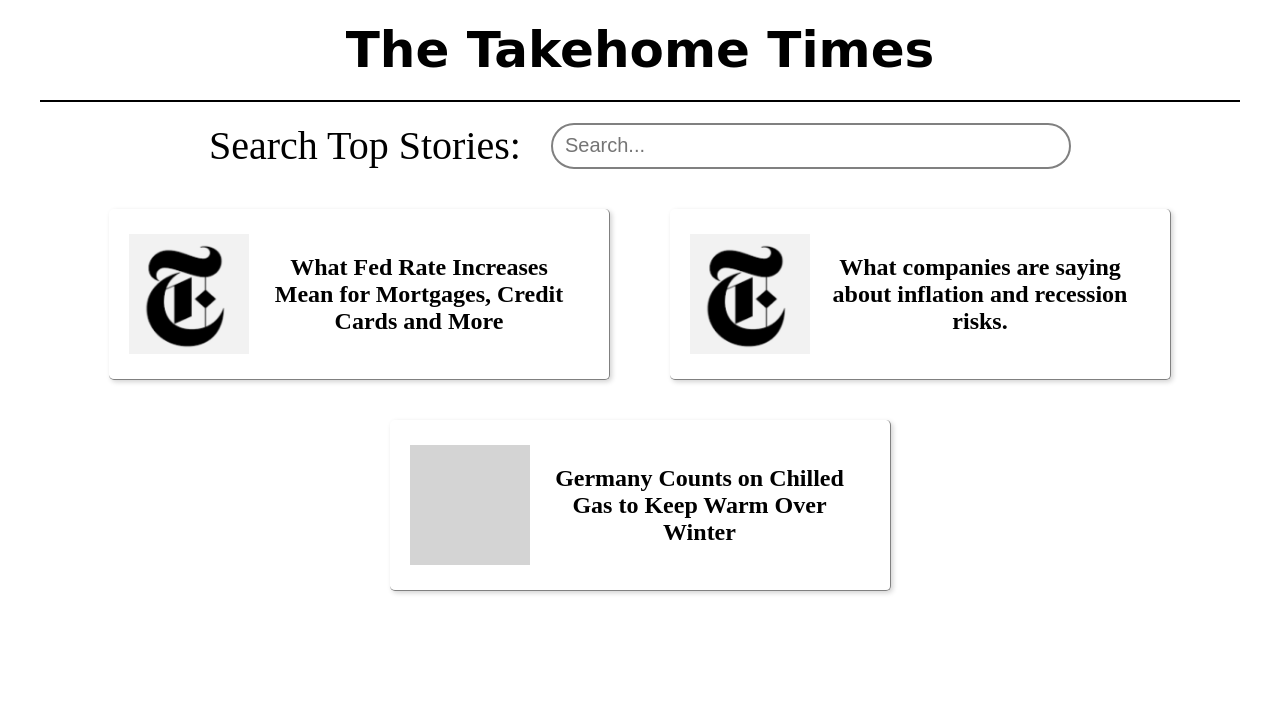
Dashboard › Should have error handling if no results are found
The width and height of the screenshot is (1280, 720).
In the field with placeholder "Search...": (811, 146) [551,123,1071,169], type "potato"
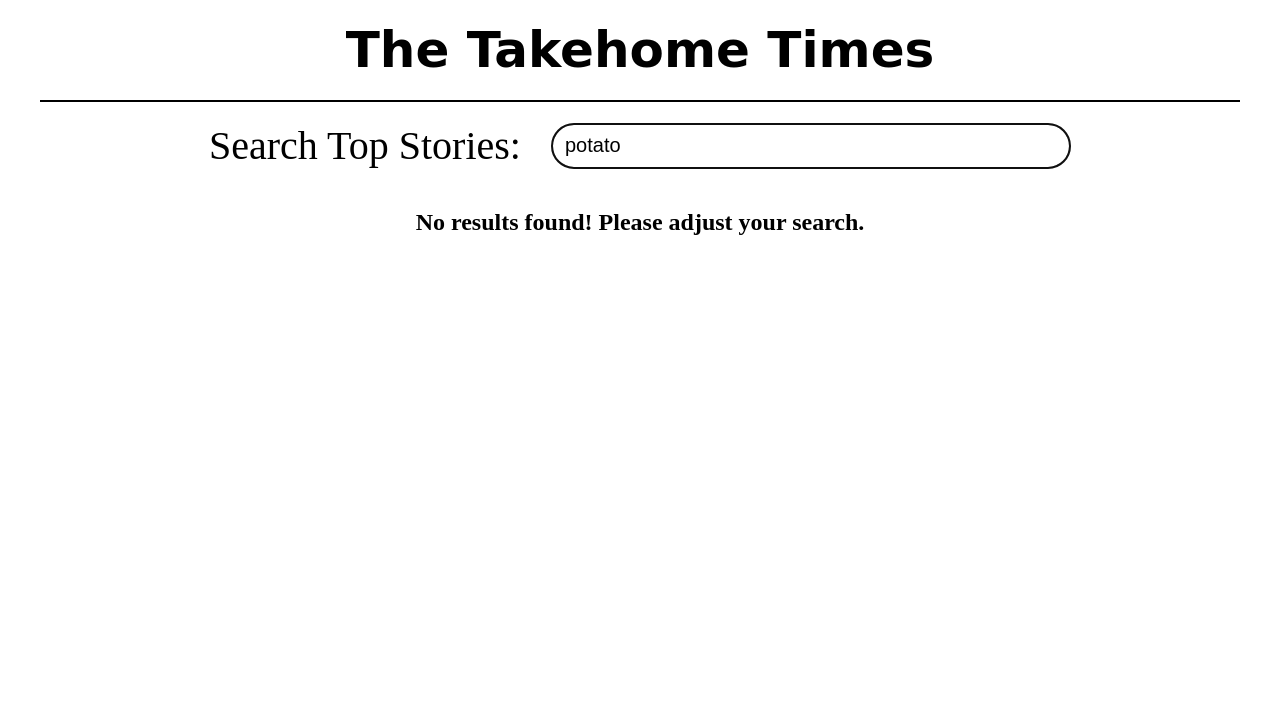
Now the heading "No results found! Please adjust your search." is shown, box [416,209,864,236]
